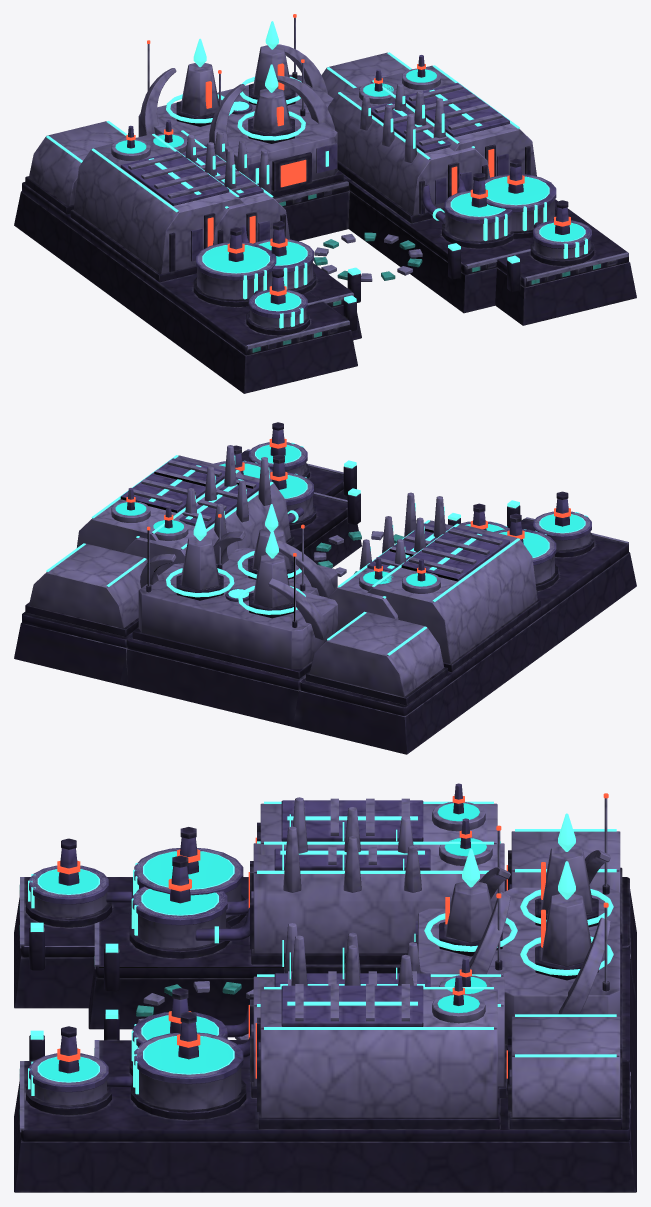
File: facility-compounds-v2-remodel.glb
3 renders of one model, top to bottom at view 1: azimuth 30°, elevation 25°; view 2: azimuth 150°, elevation 25°; view 3: azimuth 270°, elevation 25°, orthographic. The views are drawn at different scales.
Parts seen in each view (by area): view 1: facility_nacre_large, facility_nacre; view 2: facility_nacre_large, facility_nacre; view 3: facility_nacre_large, facility_nacre.
Part boxes in pixels (bbox=[...]): facility_nacre_large: bbox=[14, 14, 636, 393]; facility_nacre: bbox=[153, 59, 534, 340]; facility_nacre_large: bbox=[14, 422, 636, 754]; facility_nacre: bbox=[123, 455, 509, 630]; facility_nacre_large: bbox=[14, 783, 636, 1192]; facility_nacre: bbox=[88, 818, 517, 1098].
Size of the model in its own units: 8.72 by 3.53 by 8.84.
Materials: 4 (1 with a texture image).
